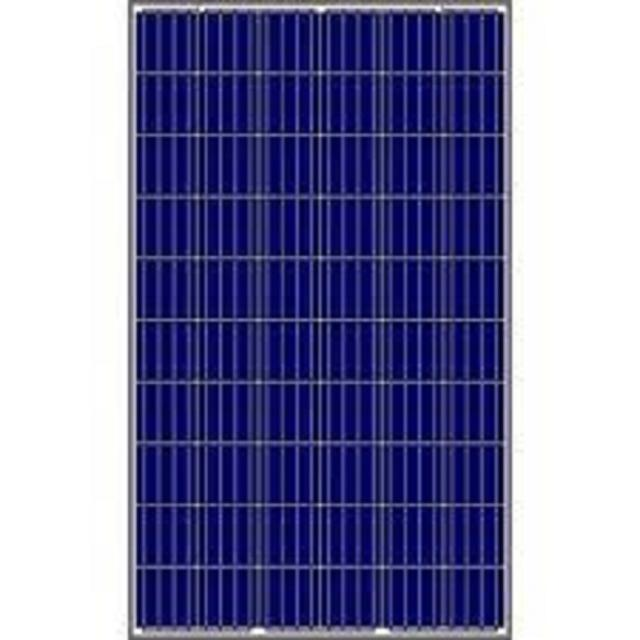clean-solar-panel: (131, 0, 510, 640)
